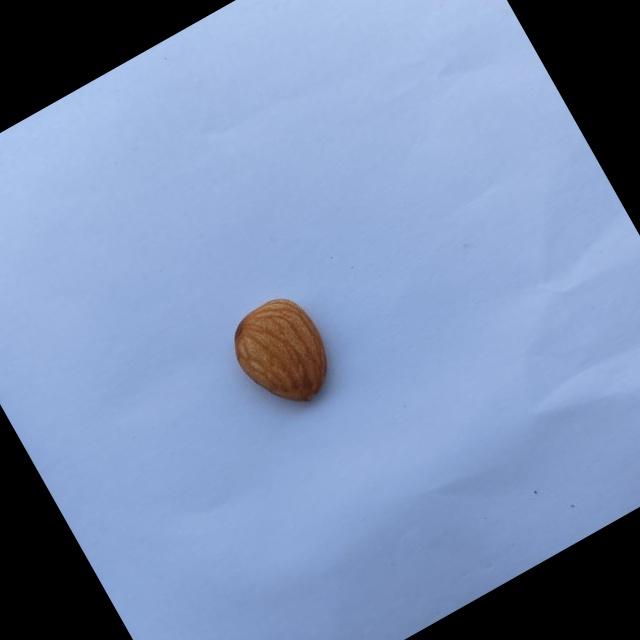grade1: (211, 276, 359, 432)
